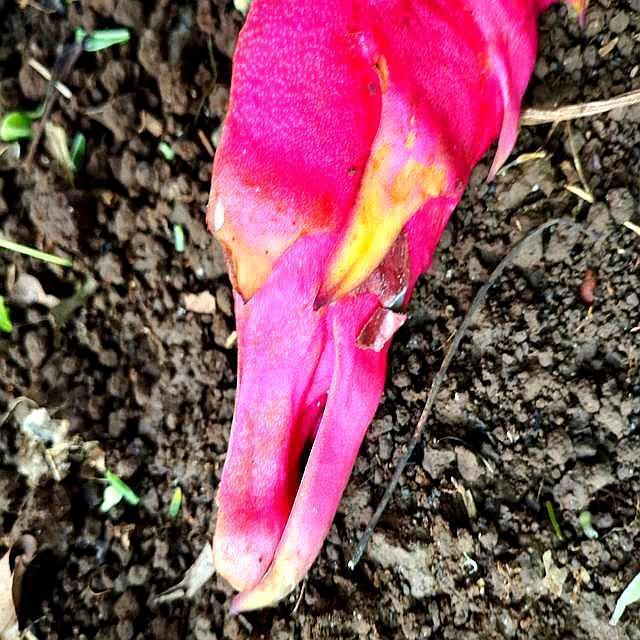Biodegradable: (138, 1, 570, 614)
